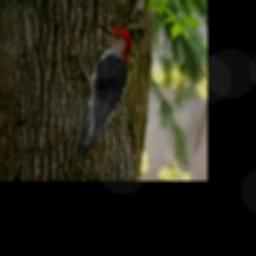Woodpecker: (74, 23, 132, 152)
